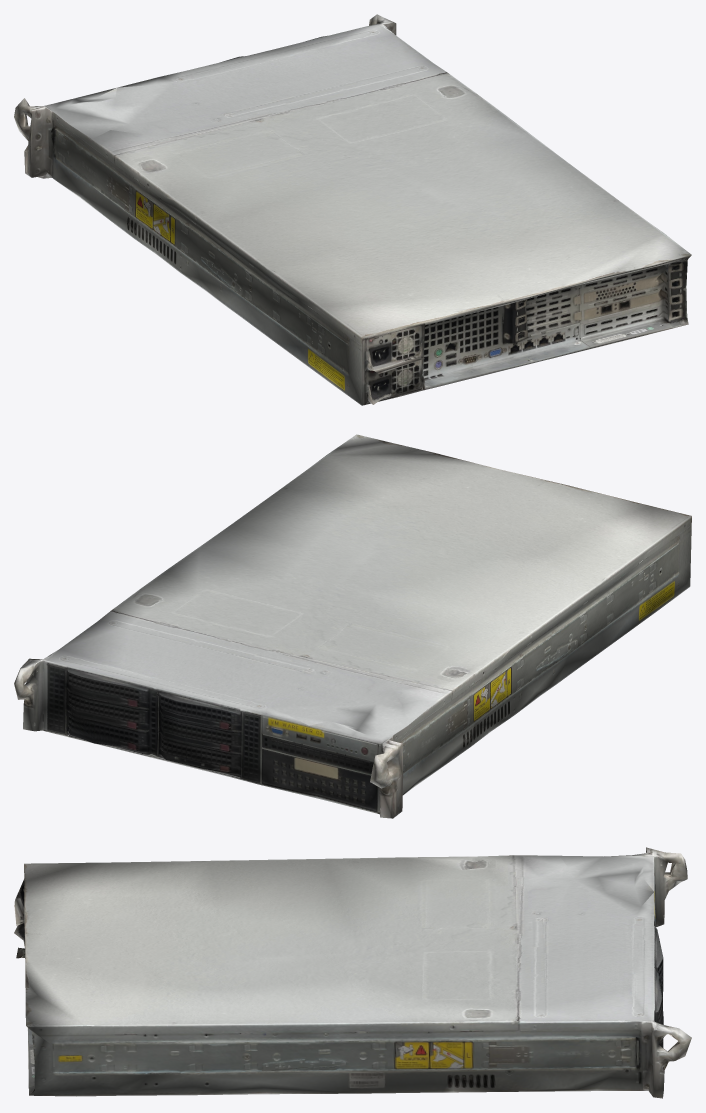
File: 2u_1k_fixed.fbx
3 views of the same model, one above another, from view 1: azimuth 30°, elevation 25°; view 2: azimuth 150°, elevation 25°; view 3: azimuth 270°, elevation 25° (orthographic).
Parts seen in each view (by area): view 1: Mesh_0_Part_0; view 2: Mesh_0_Part_0; view 3: Mesh_0_Part_0.
Part boxes in pixels (x1,y1,x2,y2): Mesh_0_Part_0: [14, 14, 691, 405]; Mesh_0_Part_0: [14, 434, 691, 818]; Mesh_0_Part_0: [14, 847, 691, 1098].
Size of the model in its own units: 1218 by 243 by 1922.
Materials: 1 (1 with a texture image).
